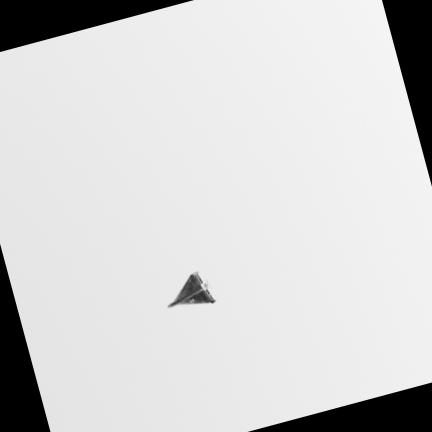Shahed: (168, 271, 215, 307)
